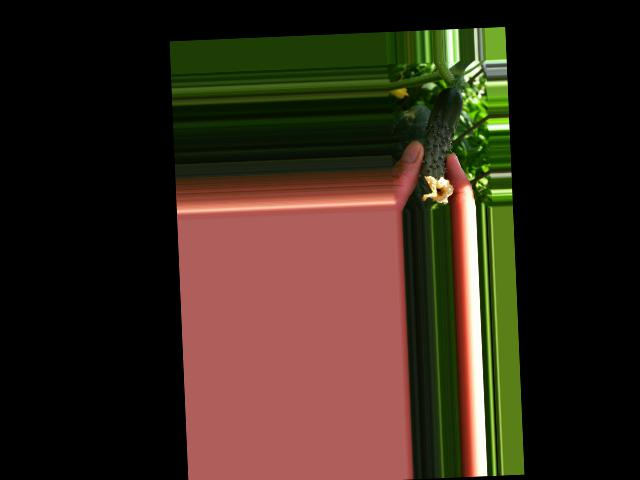cucumber: (417, 86, 466, 203)
